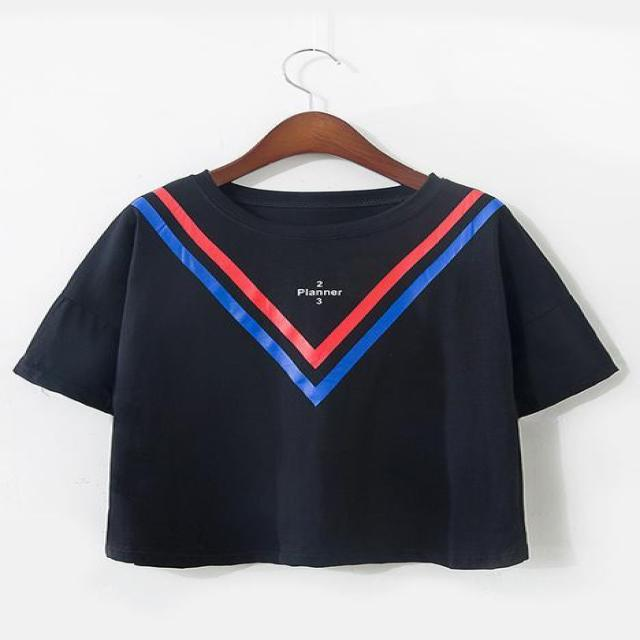short sleeve top: (12, 170, 619, 565)
